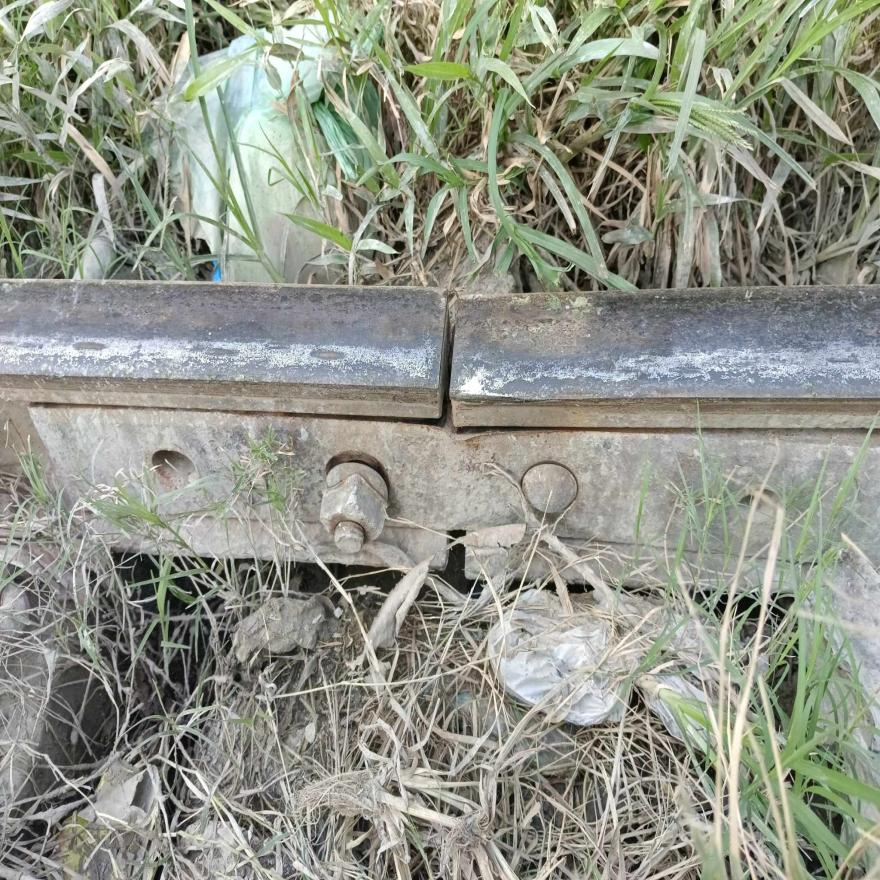railway-gap: (360, 253, 534, 456)
